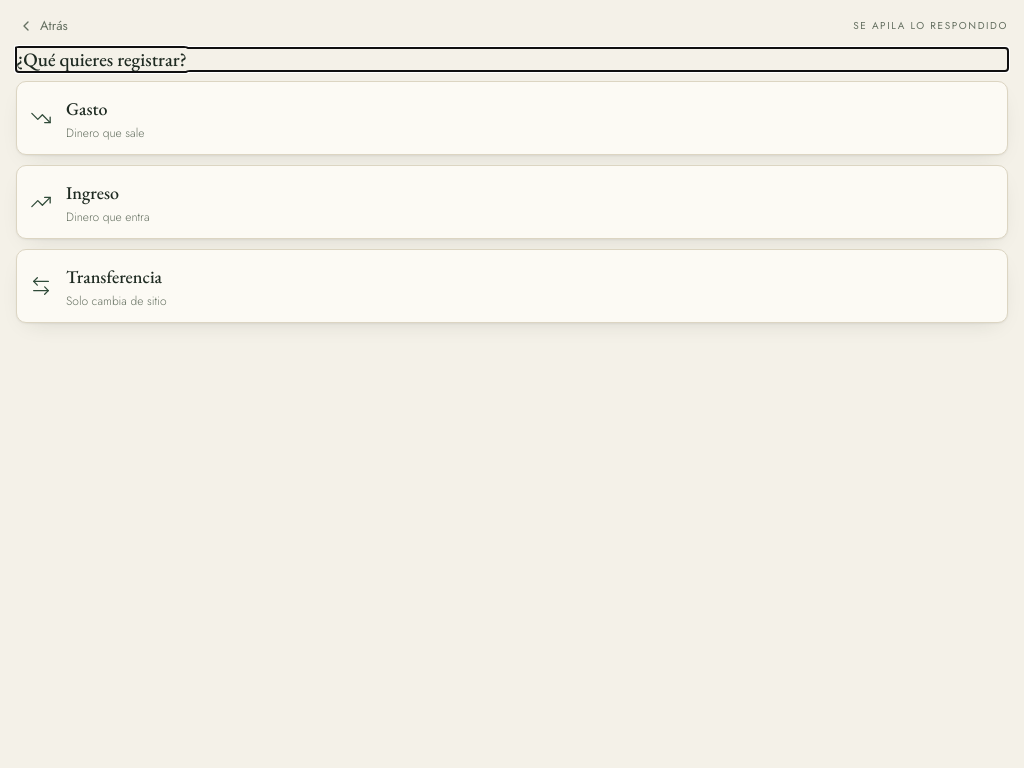
Test case: FormularioAltaRapida › si la validación falla, lo dice en pantalla en vez de quedarse mudo
Click the button "Transferencia Solo cambia de sitio" at (114,277), box [16,249,1008,323]
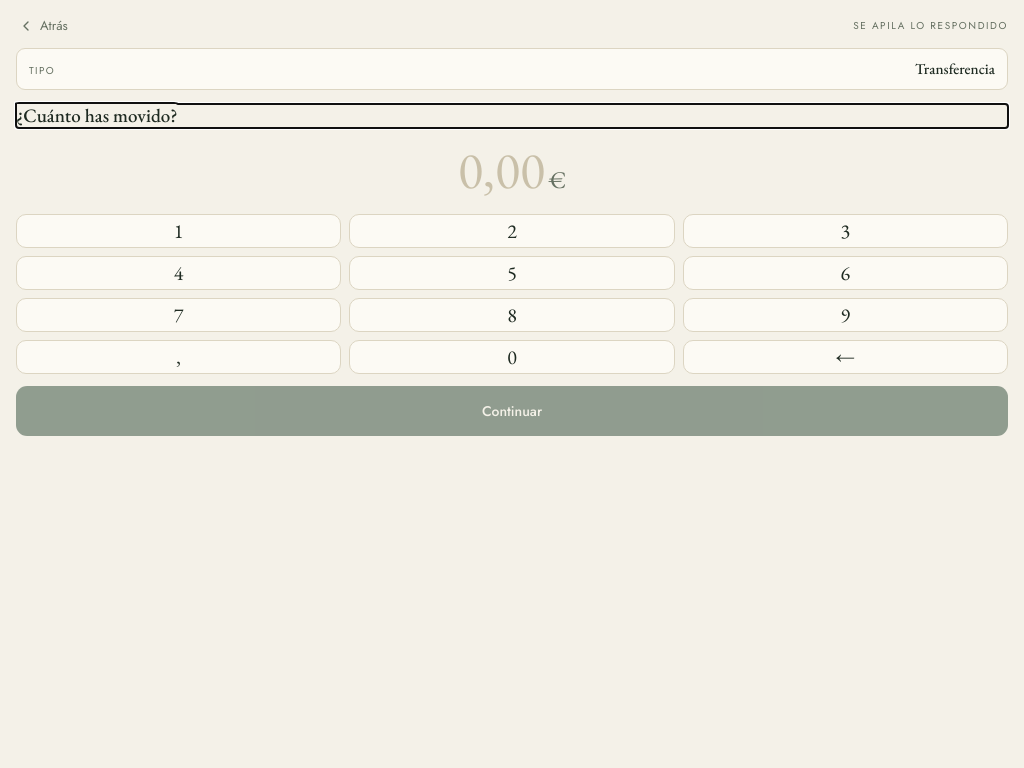
Click the button "4" at (179,273), box [16,256,341,290]
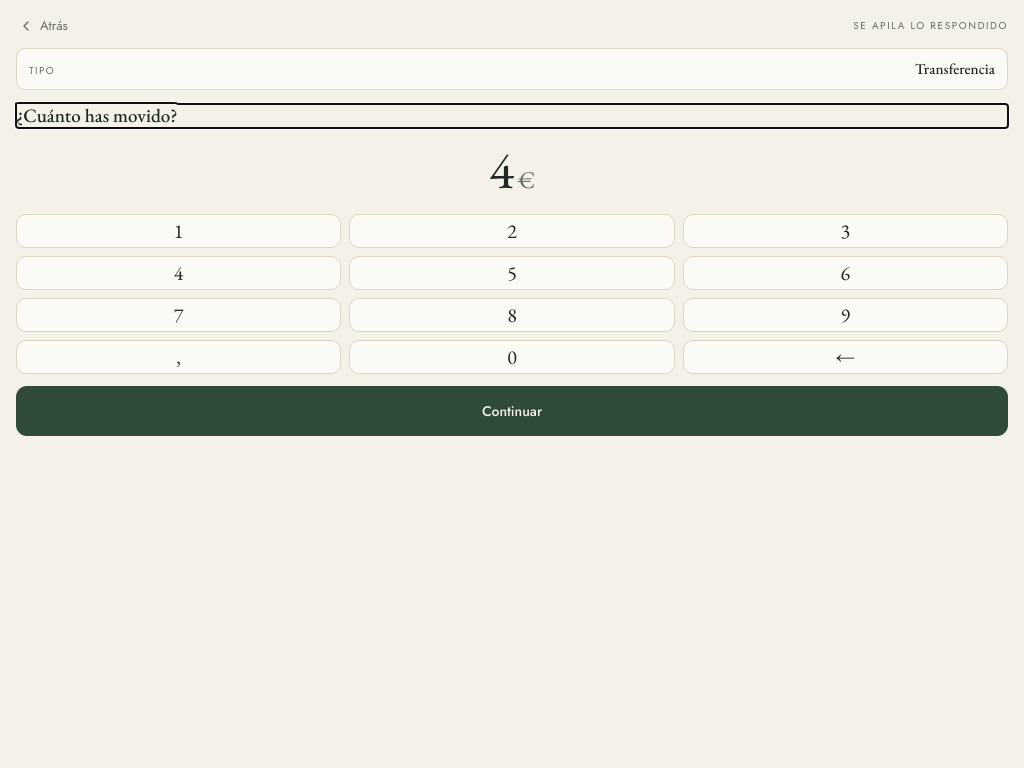
Click the button "2" at (512,231), box [349,214,675,248]
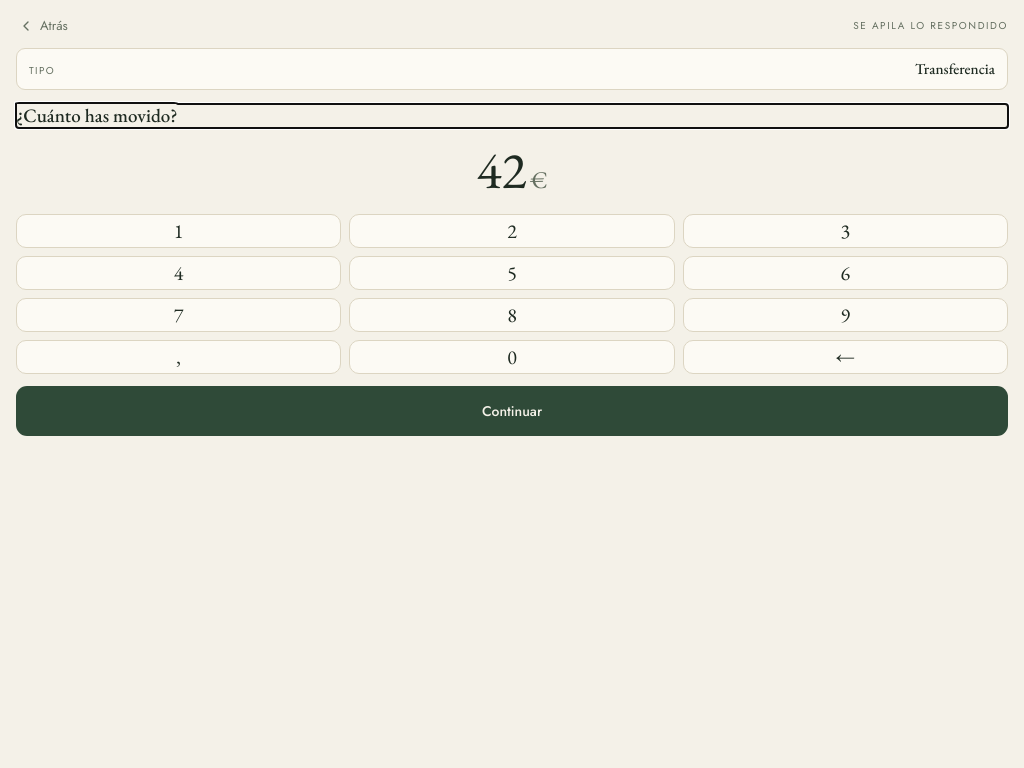
Click the button "Continuar" at (512,411), box [16,386,1008,436]
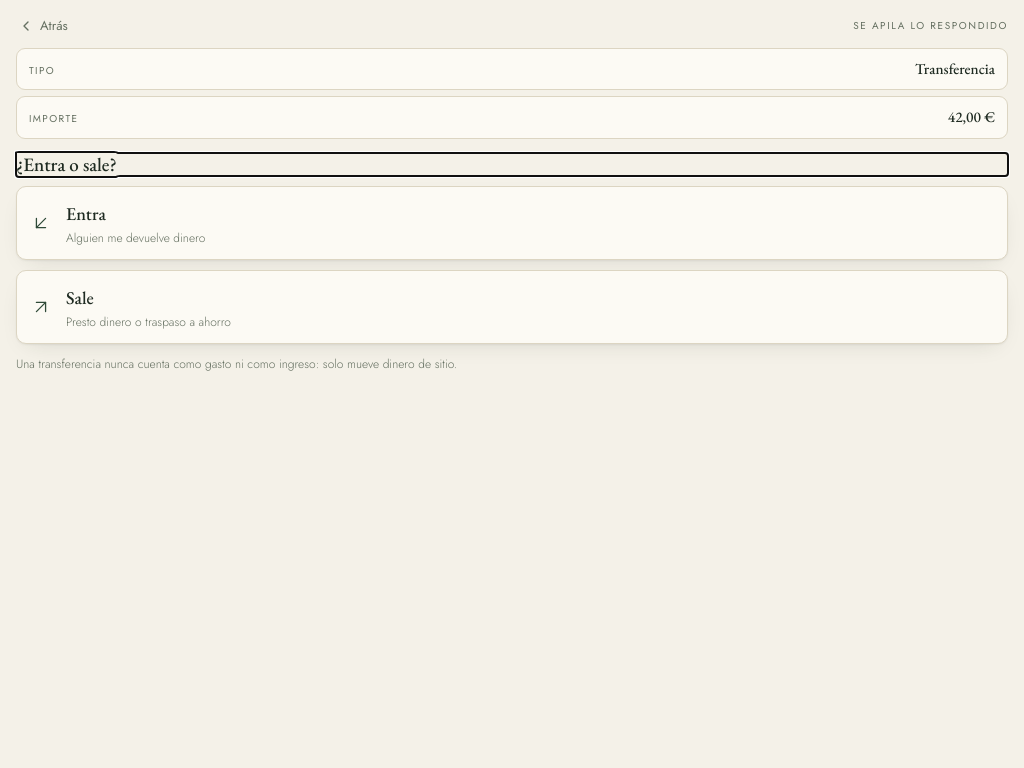
Click the button "Entra Alguien me devuelve dinero" at (86,214), box [16,186,1008,260]
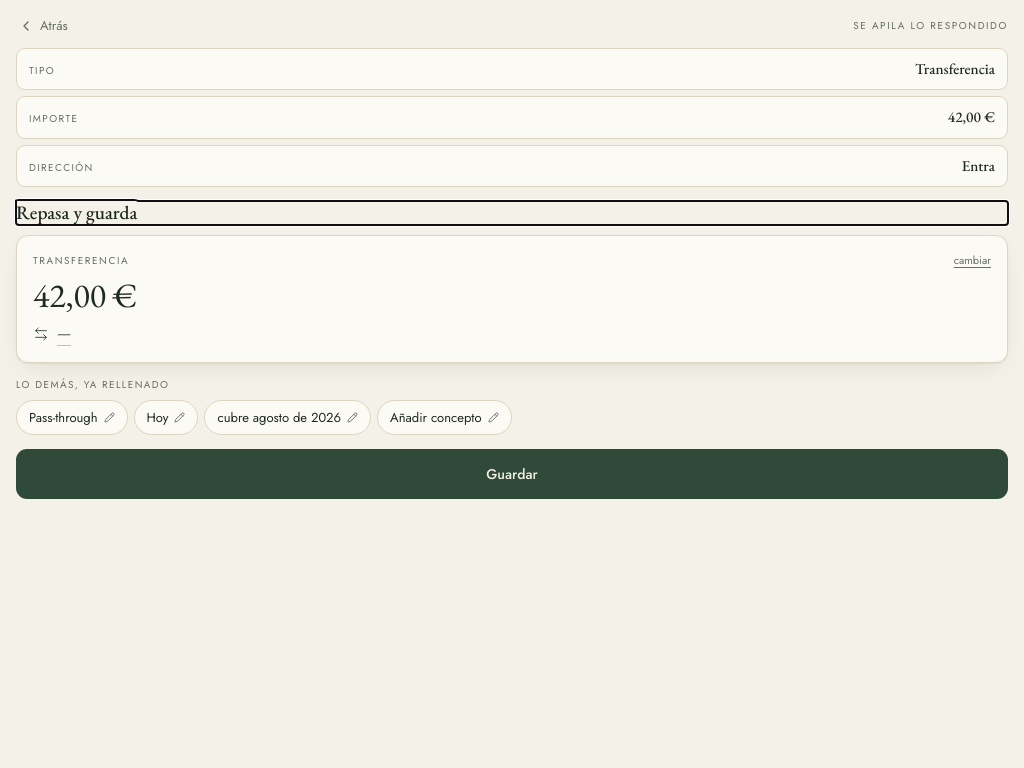
Click the button "Guardar" at (512,474), box [16,449,1008,499]
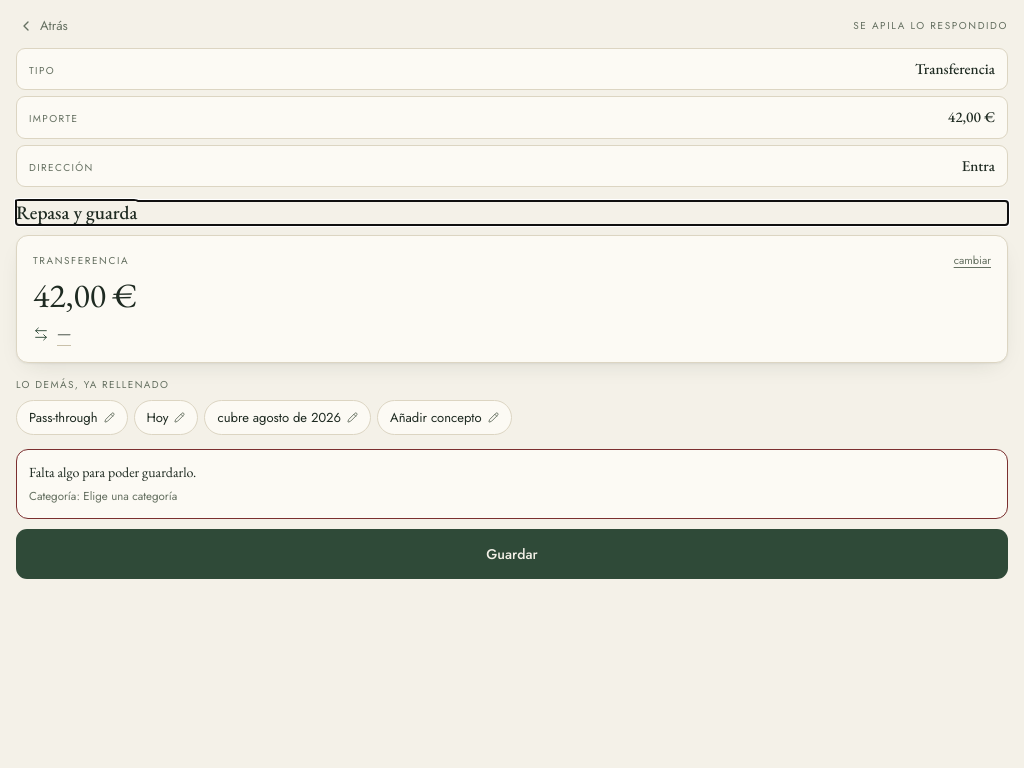
Expected: the message does not show "uuid", [16,449,1008,519]
Expected: the message "Falta algo para poder guardarlo. Categoría: Elige una categoría" is shown, [16,449,1008,519]
Expected: the message shows "Categoría", [29,488,76,504]
